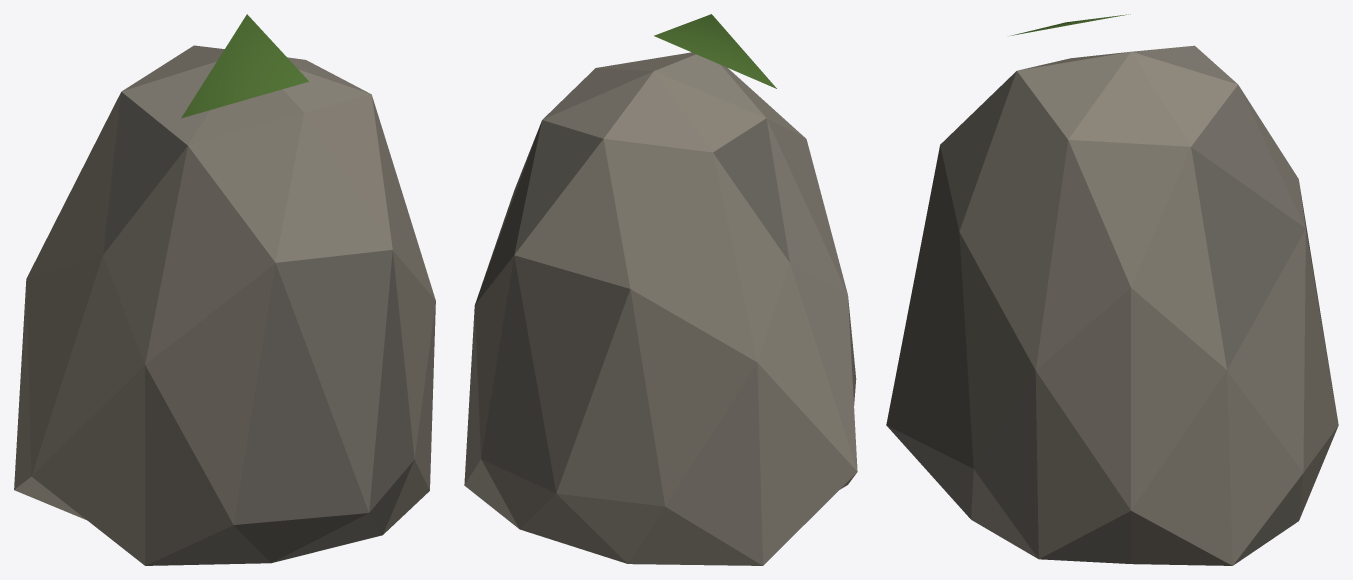
Rendered from RockSmallB.glb.
3 views of the same model, side by side, from view 1: azimuth 30°, elevation 25°; view 2: azimuth 150°, elevation 25°; view 3: azimuth 270°, elevation 25° (orthographic). The views are drawn at different scales.
Parts seen in each view (by area): view 1: RockSmallB.stone, RockSmallB.stoneDark, RockSmallB.moss; view 2: RockSmallB.stone, RockSmallB.stoneDark, RockSmallB.moss; view 3: RockSmallB.stone, RockSmallB.stoneDark.
Part boxes in pixels (<box>): RockSmallB.stone: <box>14,45,435,565</box>; RockSmallB.stoneDark: <box>103,92,414,565</box>; RockSmallB.moss: <box>181,14,308,118</box>; RockSmallB.stone: <box>464,52,857,565</box>; RockSmallB.stoneDark: <box>475,118,789,492</box>; RockSmallB.moss: <box>654,14,776,88</box>; RockSmallB.stone: <box>940,45,1338,565</box>; RockSmallB.stoneDark: <box>886,85,1336,518</box>.
Size of the model in its own units: 1.8 by 2.1 by 1.8.
